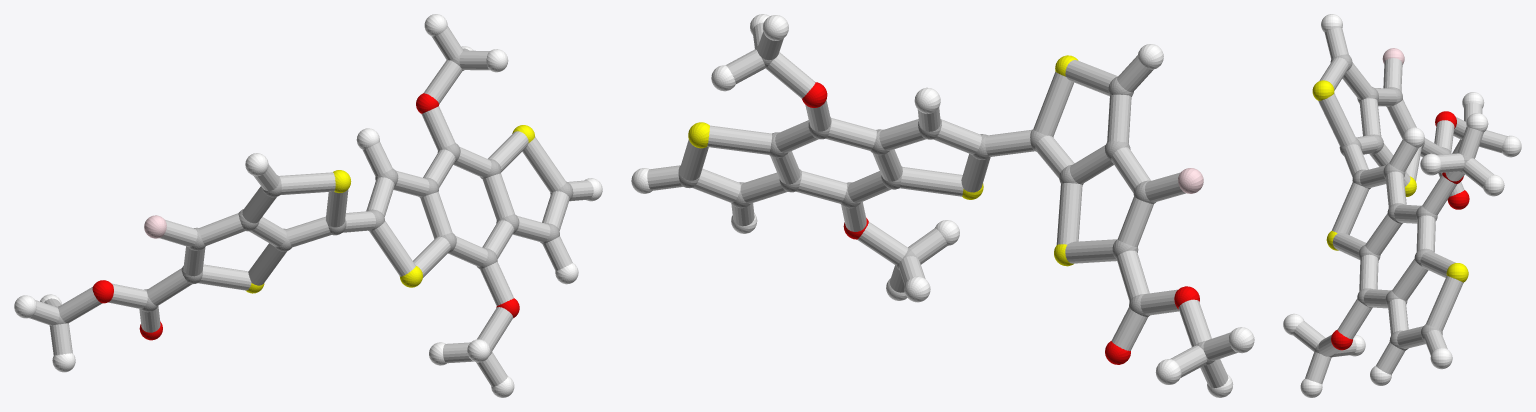
File: Dimethoxy_Benzodithiophene_Phi_20_Theta_290_Methylcarbonyl_3_Fluoro_Thienothiophene.glb
3 renders of one model, left to right at view 1: azimuth 30°, elevation 25°; view 2: azimuth 150°, elevation 25°; view 3: azimuth 270°, elevation 25°, orthographic. The views are drawn at different scales.
Visible parts, largest first — view 1: grp15205, grp8689, grp1, grp13395, grp7241; view 2: grp15205, grp8689, grp1, grp13395, grp7241, grp14843; view 3: grp15205, grp8689, grp1, grp7241, grp13395, grp14843.
Boxes of the visible parts, left/top/right/bottom form: grp15205: left=29, top=26, right=593, bottom=386; grp8689: left=14, top=14, right=602, bottom=397; grp1: left=49, top=50, right=573, bottom=355; grp13395: left=92, top=93, right=519, bottom=340; grp7241: left=246, top=125, right=534, bottom=293; grp15205: left=647, top=22, right=1237, bottom=387; grp8689: left=631, top=14, right=1254, bottom=397; grp1: left=678, top=45, right=1214, bottom=365; grp13395: left=802, top=82, right=1199, bottom=364; grp7241: left=688, top=55, right=1078, bottom=266; grp14843: left=1178, top=168, right=1203, bottom=193; grp15205: left=1292, top=27, right=1506, bottom=383; grp8689: left=1283, top=14, right=1521, bottom=397; grp1: left=1314, top=54, right=1471, bottom=357; grp7241: left=1312, top=80, right=1468, bottom=282; grp13395: left=1331, top=111, right=1469, bottom=350; grp14843: left=1382, top=48, right=1404, bottom=64.
Bounding box in the file's own units: 16.88 × 8.85 × 6.53.
